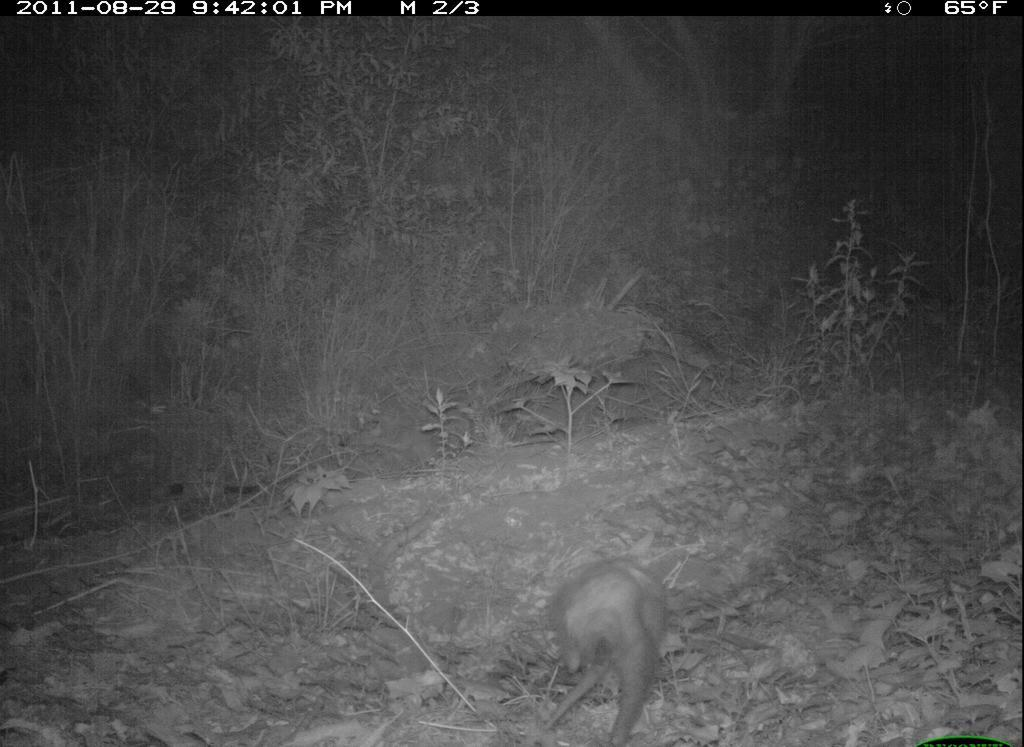opossum: (547, 553, 681, 740)
